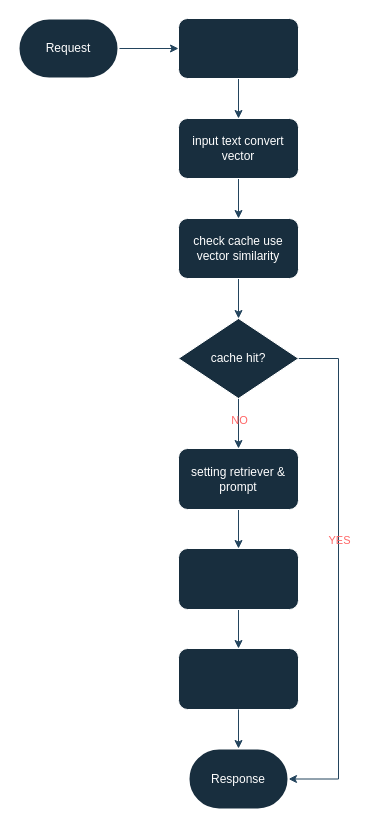
Some shapes in this 367 by 827 pixel diagram are drawn without their labels. Here are the shapes that lost their labels. From the top down, the box of each, then its label:
(178, 18, 298, 78): Acces Tokem decode & get connector
(178, 548, 298, 610): get result use RedisConversation
(178, 648, 298, 710): set cache
